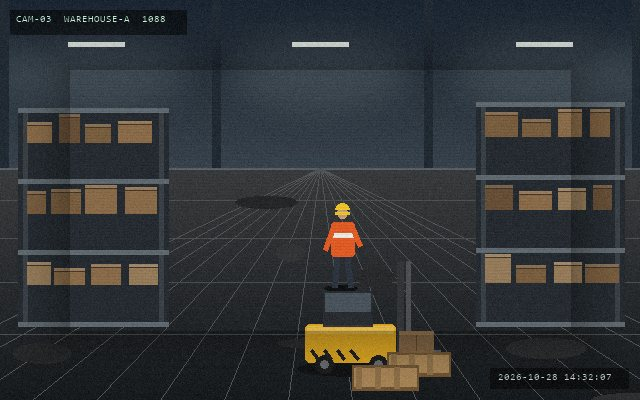forklift: (301, 259, 442, 376)
pallet: (350, 363, 420, 392), (385, 350, 452, 378)
person: (323, 201, 362, 290)
shelf: (476, 102, 624, 322), (18, 108, 168, 322)
